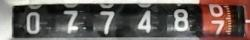digits: (206, 6, 228, 36), (98, 11, 114, 34), (25, 11, 40, 34), (173, 8, 188, 31), (63, 10, 78, 33), (137, 10, 150, 32)
